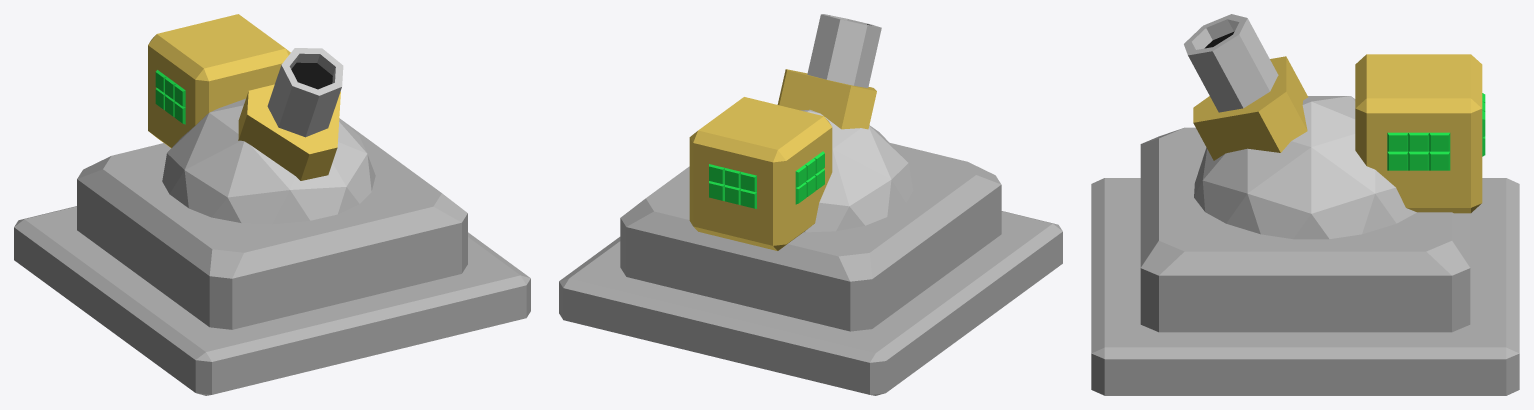
Rendered from mineser.fbx.
The picture shows the model from 3 angles, left to right: view 1: azimuth 30°, elevation 25°; view 2: azimuth 150°, elevation 25°; view 3: azimuth 270°, elevation 25°; orthographic projection. The views are drawn at different scales.
Visible parts, largest first — view 1: Cube.003, Cube.008, Icosphere.001, Cube.009, Cylinder.004, Cylinder.006, Cube.010; view 2: Cube.003, Cube.008, Cube.009, Icosphere.001, Cylinder.004, Cylinder.006, Cube.012, Cube.010; view 3: Cube.008, Cube.003, Icosphere.001, Cube.009, Cylinder.006, Cylinder.004, Cube.011.
Part boxes in pixels (box(x1,y1,x2,y2)): Cube.003: box(77, 119, 467, 329); Cube.008: box(14, 206, 530, 395); Icosphere.001: box(162, 98, 375, 224); Cube.009: box(148, 14, 290, 148); Cylinder.004: box(267, 48, 343, 137); Cylinder.006: box(238, 84, 340, 180); Cube.010: box(155, 70, 185, 124); Cube.003: box(620, 143, 1001, 331); Cube.008: box(559, 211, 1062, 395); Cube.009: box(689, 97, 832, 250); Icosphere.001: box(800, 109, 913, 232); Cylinder.004: box(807, 14, 881, 87); Cylinder.006: box(777, 69, 876, 129); Cube.012: box(709, 164, 756, 208); Cube.010: box(795, 151, 824, 204); Cube.008: box(1091, 178, 1519, 395); Cube.003: box(1140, 127, 1470, 332); Icosphere.001: box(1194, 96, 1416, 239); Cube.009: box(1355, 54, 1482, 213); Cylinder.006: box(1193, 56, 1307, 160); Cylinder.004: box(1184, 14, 1278, 112); Cube.011: box(1387, 132, 1450, 170).
Bounding box in the file's own units: 400 × 323 × 400.
